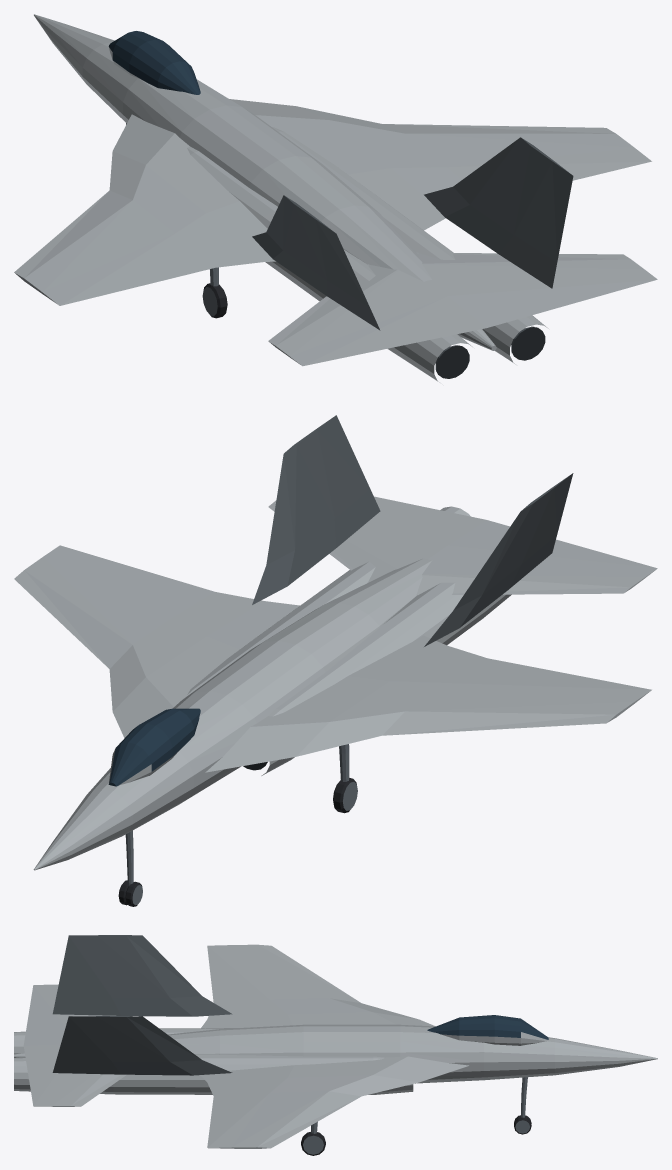
The picture shows the model from 3 angles, top to bottom: view 1: azimuth 30°, elevation 25°; view 2: azimuth 150°, elevation 25°; view 3: azimuth 270°, elevation 25°; orthographic projection. The views are drawn at different scales.
Visible parts, largest first — view 1: airframe, gear; view 2: airframe, gear; view 3: airframe, gear.
Boxes of the visible parts, x1,y1,x2,y2 form: airframe: [14, 14, 657, 382]; gear: [126, 123, 227, 318]; airframe: [14, 415, 657, 870]; gear: [118, 744, 357, 906]; airframe: [14, 935, 657, 1148]; gear: [301, 1077, 531, 1155].
Size of the model in its own units: 13.62 by 4.91 by 18.31.
